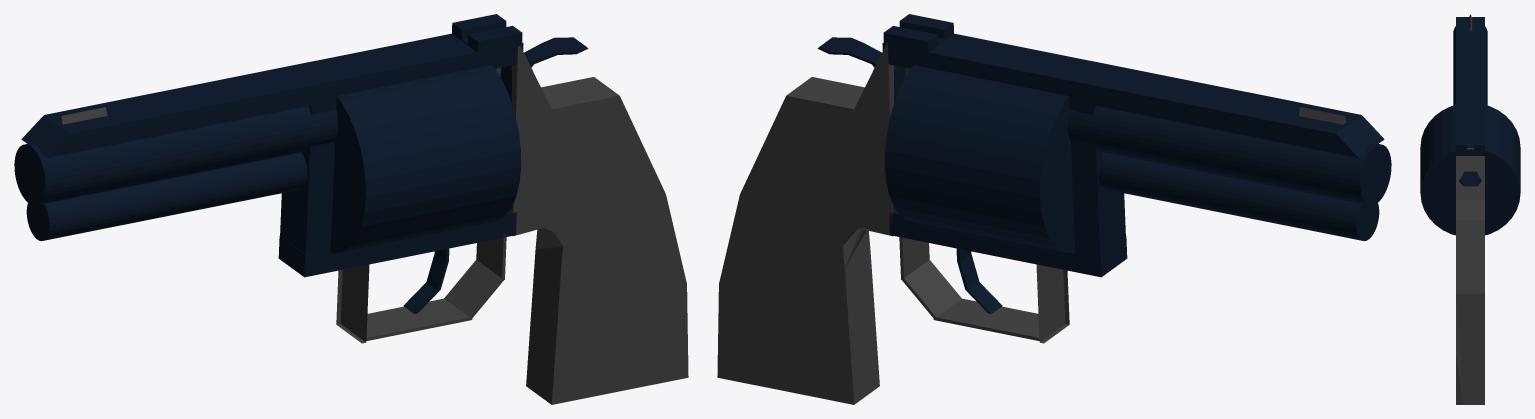
Rendered from revolver0002.obj.
The picture shows the model from 3 angles, left to right: view 1: azimuth 30°, elevation 25°; view 2: azimuth 150°, elevation 25°; view 3: azimuth 270°, elevation 25°; orthographic projection. The views are drawn at different scales.
Visible parts, largest first — view 1: Cube, bulletCylinder, upperFrame, barrel, cleaningRod, Cube.002, Cube.001, triggerGuard.002, Cube.003, triggerGuard.001, trigger, trigger2 (+1 smaller); view 2: Cube, bulletCylinder, upperFrame, barrel, cleaningRod, Cube.001, Cube.002, triggerGuard.002, Cube.003, triggerGuard.001, trigger, trigger2 (+1 smaller); view 3: bulletCylinder, Cube, upperFrame, Cube.003, barrel, trigger2.
Part boxes in pixels (bbox=[...]): Cube: bbox=[336, 41, 688, 404]; bulletCylinder: bbox=[330, 65, 521, 253]; upperFrame: bbox=[21, 33, 523, 209]; barrel: bbox=[14, 106, 338, 205]; cleaningRod: bbox=[26, 152, 307, 241]; Cube.002: bbox=[280, 91, 344, 254]; Cube.001: bbox=[278, 209, 516, 277]; triggerGuard.002: bbox=[366, 298, 472, 340]; Cube.003: bbox=[452, 14, 522, 54]; triggerGuard.001: bbox=[444, 259, 503, 318]; trigger: bbox=[403, 248, 449, 313]; trigger2: bbox=[524, 37, 588, 67]; Cube: bbox=[717, 42, 1069, 404]; bulletCylinder: bbox=[884, 65, 1075, 253]; upperFrame: bbox=[882, 33, 1384, 209]; barrel: bbox=[1067, 106, 1391, 205]; cleaningRod: bbox=[1098, 152, 1379, 241]; Cube.001: bbox=[889, 209, 1127, 277]; Cube.002: bbox=[1069, 95, 1125, 254]; triggerGuard.002: bbox=[933, 298, 1039, 340]; Cube.003: bbox=[883, 14, 953, 54]; triggerGuard.001: bbox=[902, 259, 961, 319]; trigger: bbox=[956, 248, 1002, 313]; trigger2: bbox=[817, 37, 881, 67]; bulletCylinder: bbox=[1420, 105, 1520, 235]; Cube: bbox=[1456, 148, 1484, 404]; upperFrame: bbox=[1456, 17, 1484, 155]; Cube.003: bbox=[1456, 132, 1484, 150]; barrel: bbox=[1453, 26, 1487, 105]; trigger2: bbox=[1459, 171, 1481, 186].
Bounding box in the file's own units: 2.9 × 1.72 × 0.6981.
